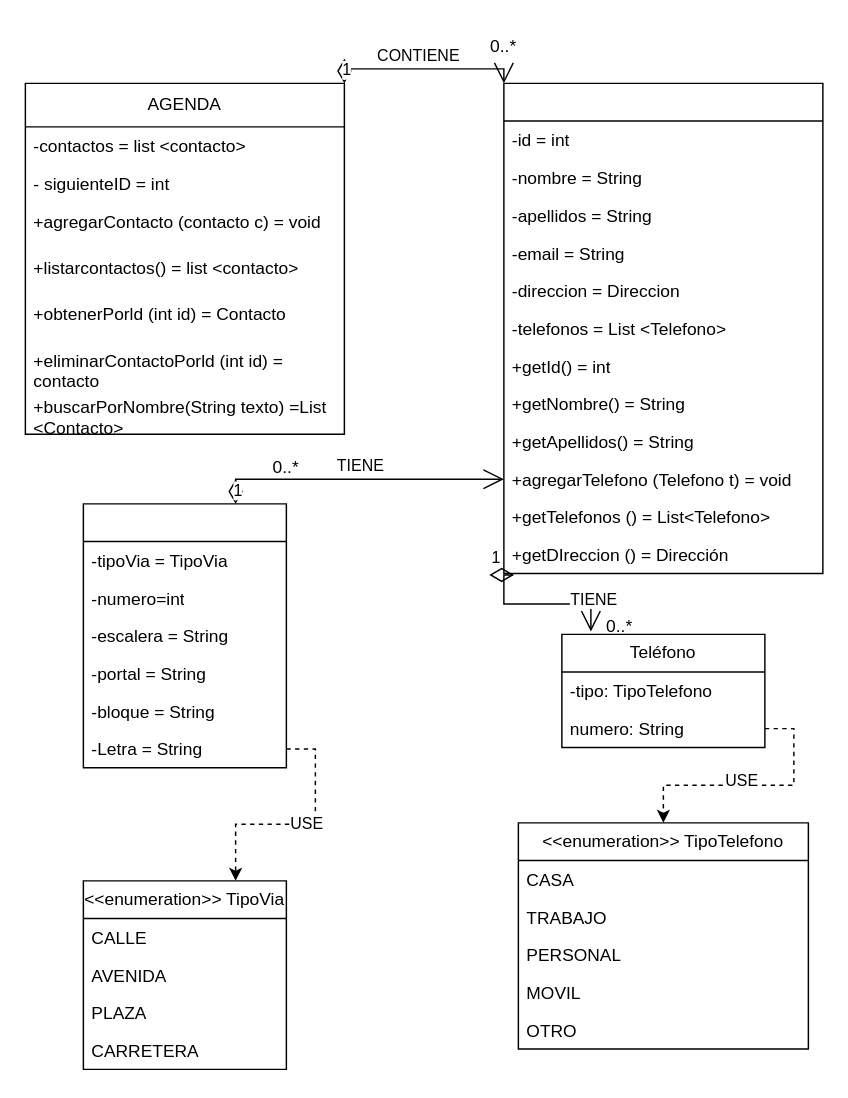
This 848x1098 diagram has some shape labels left out. Here are the shapes that lost their labels. From the top down, the box of each, then its label:
(502, 82, 823, 573): Contacto
(82, 502, 286, 768): Direccion
